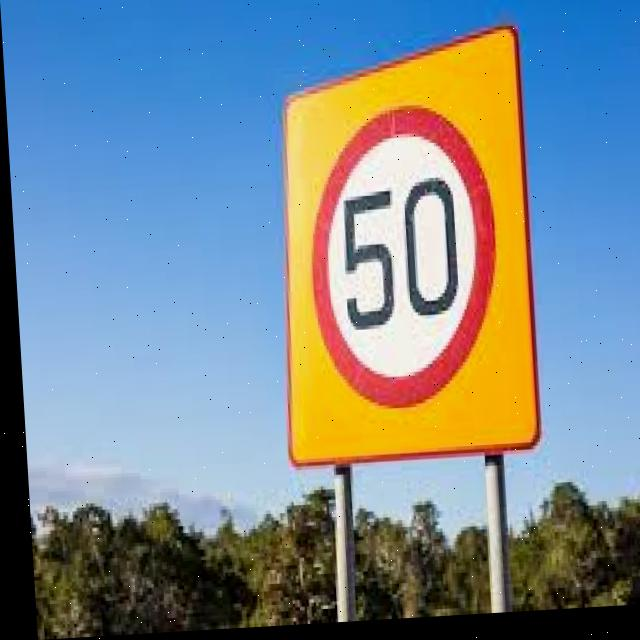Speed limit 50: (296, 101, 503, 422)
